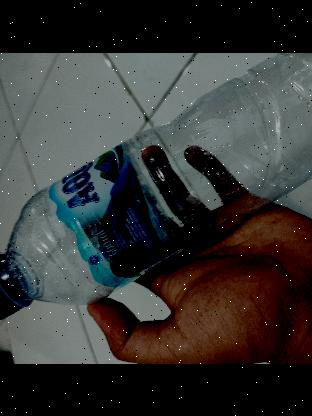Plastic Bottle: (0, 52, 312, 325)
